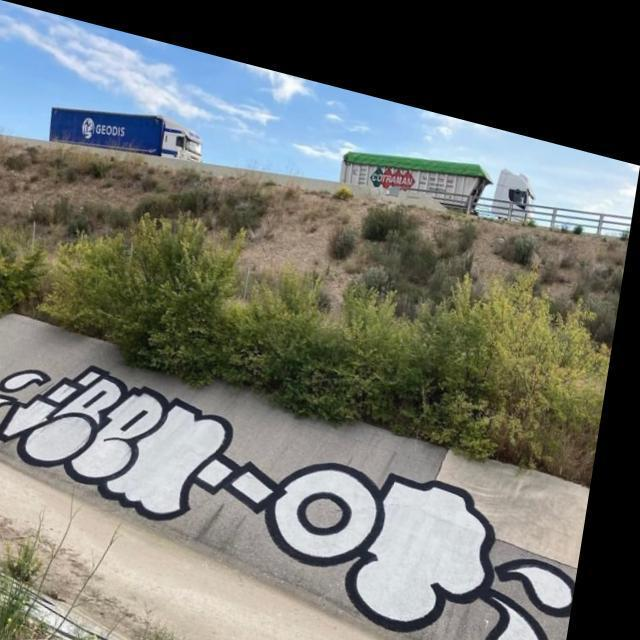-: (0, 288, 605, 640)
